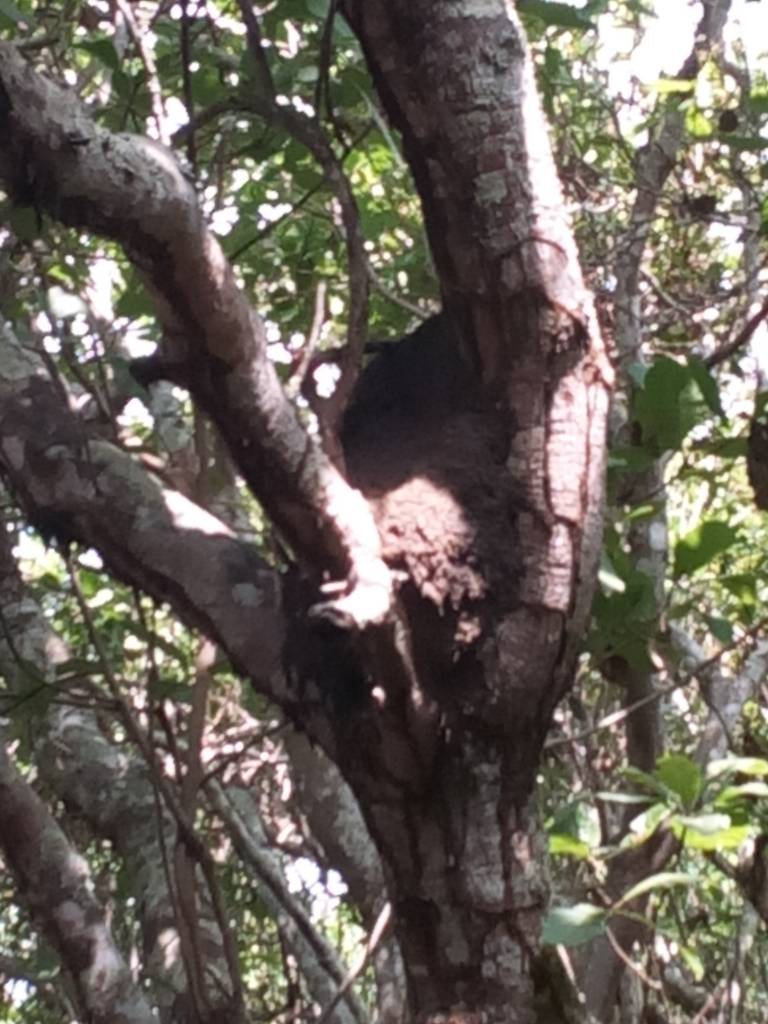Termites: (358, 349, 510, 724), (396, 807, 533, 1014), (140, 519, 307, 677), (547, 357, 585, 667)
